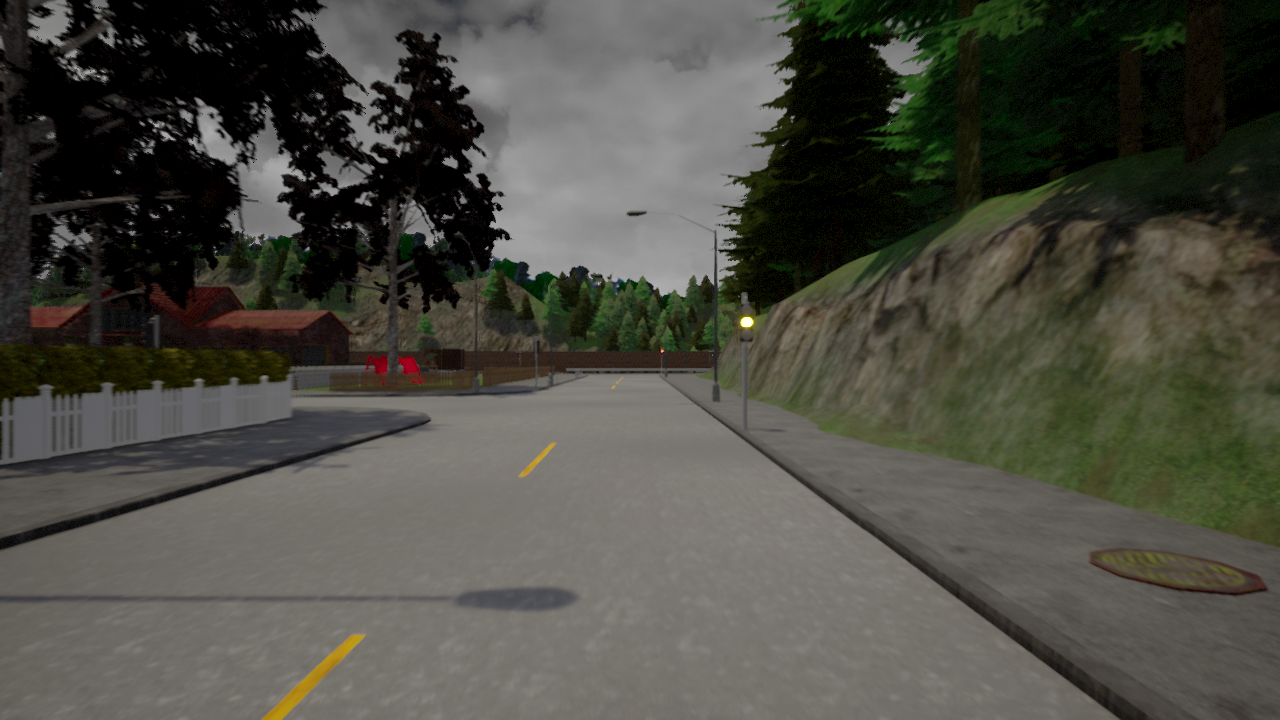yellow: (737, 301, 756, 341)
